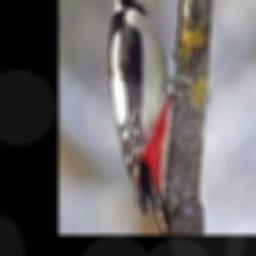Woodpecker: (107, 0, 188, 235)
